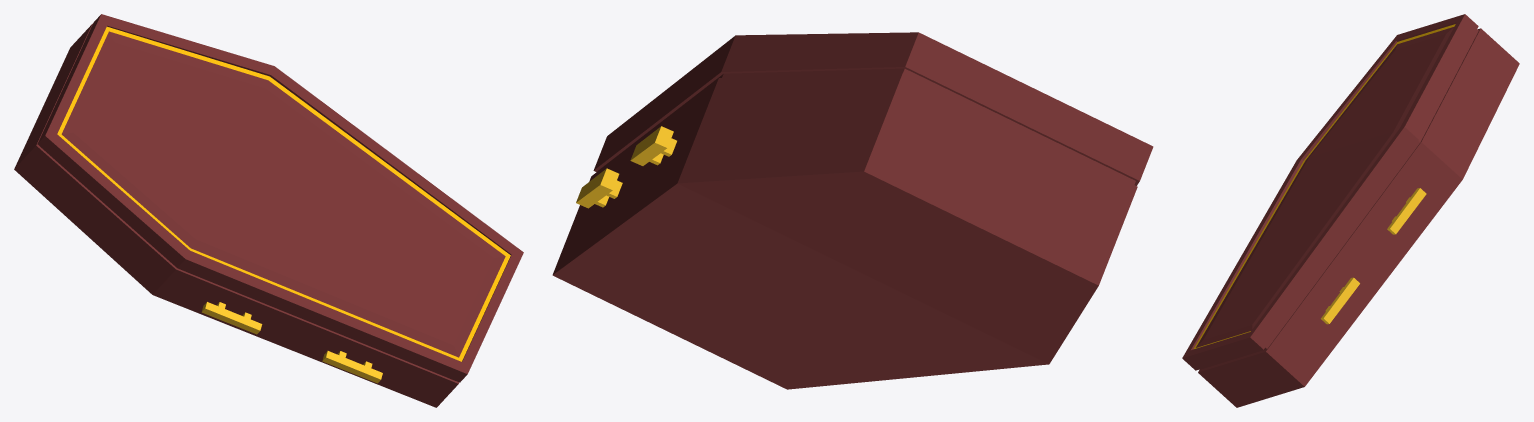
Rendered from coffin.glb.
3 renders of one model, left to right at view 1: azimuth 30°, elevation 25°; view 2: azimuth 150°, elevation 25°; view 3: azimuth 270°, elevation 25°, orthographic. The views are drawn at different scales.
Visible parts, largest first — view 1: Cube.1020; view 2: Cube.1020; view 3: Cube.1020.
Boxes of the visible parts, x1,y1,x2,y2 form: Cube.1020: [14, 14, 523, 407]; Cube.1020: [552, 32, 1153, 389]; Cube.1020: [1182, 14, 1519, 407].
Size of the model in its own units: 2.23 by 1.88 by 1.88.
Materials: 1 (1 with a texture image).
